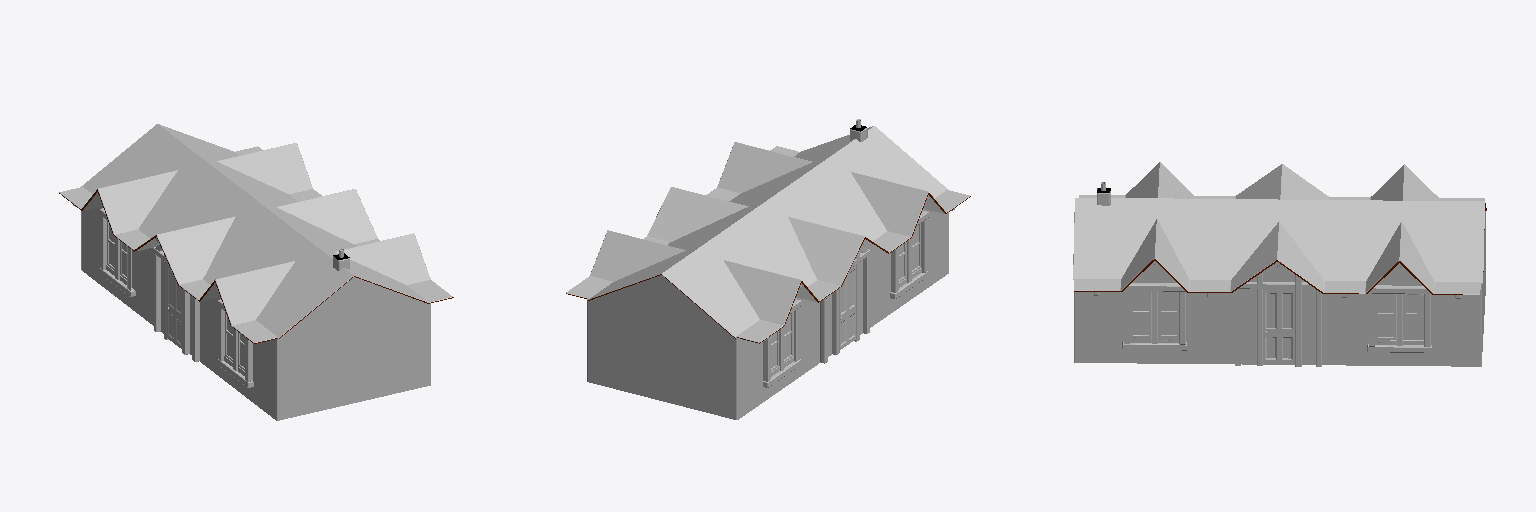
The model's file is haunted.obj.
3 renders of one model, left to right at view 1: azimuth 30°, elevation 25°; view 2: azimuth 150°, elevation 25°; view 3: azimuth 270°, elevation 25°, orthographic.
Parts seen in each view (by area): view 1: abandoned_cottage; view 2: abandoned_cottage; view 3: abandoned_cottage.
Part boxes in pixels (x1,y1,x2,y2): abandoned_cottage: (59,124,453,420); abandoned_cottage: (566,119,970,419); abandoned_cottage: (1073,162,1486,366).
Bounding box in the file's own units: 49.58 × 33.16 × 86.85.